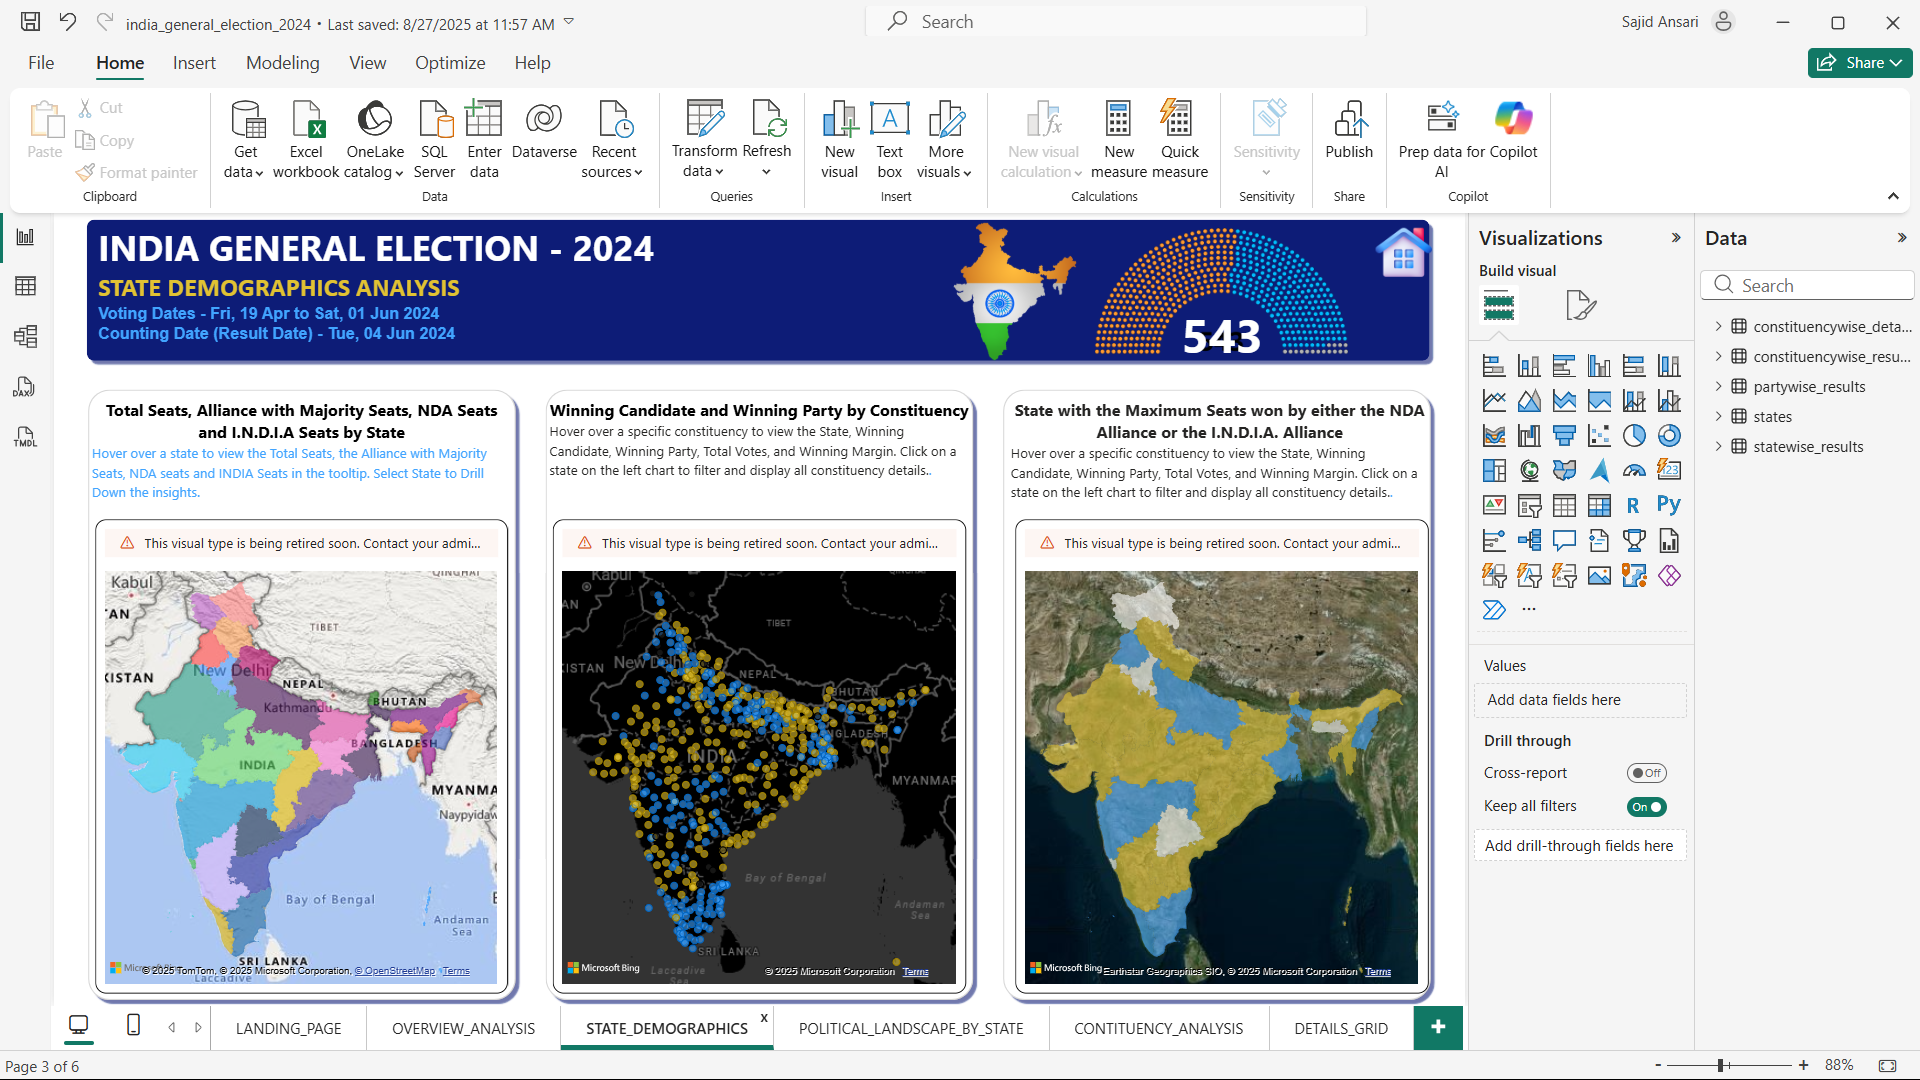

Layout of this report page (visuals, bound fields, positions):
{"tool":"powerbi","page":{"name":"STATE_DEMOGRAPHICS","canvas":[1280,720],"ordinal":2},"visuals":[{"type":"shape","box":[24.1,0,1230.3,140.1],"z":0},{"type":"shape","box":[24.7,154.1,400,565.9],"z":1000},{"type":"textbox","box":[35.2,4.5,583,136.1],"z":2000},{"type":"image","box":[784.3,2.9,172.9,135.7],"z":3000},{"type":"image","box":[935.7,2.9,247.1,135.7],"z":4000},{"type":"card","fields":{"Values":["partywise_results.Total Seats"]},"box":[1011.4,84.3,97.1,51.4],"z":5000},{"type":"shape","box":[440,154.1,400,565.9],"z":6000},{"type":"shape","box":[855.3,154.1,400,565.9],"z":7000},{"type":"filledMap","fields":{"Category":["states.State"],"Series":["states.State"]},"box":[37.6,277.6,374.1,430.6],"z":8000},{"type":"textbox","box":[29.4,163.5,390.6,114.1],"z":9000},{"type":"map","fields":{"Category":["states.State","statewise_results.Constituency"],"Series":["constituencywise_results.Alliance"]},"box":[452.9,277.6,375.3,430.6],"z":10000},{"type":"filledMap","fields":{"Category":["states.State"],"Series":["states.Winning Alliance"]},"box":[871.8,277.6,375.3,430.6],"z":11000},{"type":"textbox","box":[444.7,163.5,390.6,114.1],"z":12000},{"type":"textbox","box":[863.5,163.5,389.4,114.1],"z":13000},{"type":"image","box":[1194.1,4.7,61.2,62.4],"z":14000}]}

Visuals, with their boxes on the page's 1280x720 design canvas (x1, y1, x2, y2). These are canvas units, not pixel positions in the 1920x1080 screenshot, which may show the page scaled, cropped or inside an application window:
shape: box=[24, 0, 1254, 140]
shape: box=[25, 154, 425, 720]
textbox: box=[35, 4, 618, 141]
image: box=[784, 3, 957, 139]
image: box=[936, 3, 1183, 139]
card - partywise_results.Total Seats: box=[1011, 84, 1108, 136]
shape: box=[440, 154, 840, 720]
shape: box=[855, 154, 1255, 720]
filledMap - states.State x states.State: box=[38, 278, 412, 708]
textbox: box=[29, 164, 420, 278]
map - states.State x statewise_results.Constituency: box=[453, 278, 828, 708]
filledMap - states.State x states.Winning Alliance: box=[872, 278, 1247, 708]
textbox: box=[445, 164, 835, 278]
textbox: box=[864, 164, 1253, 278]
image: box=[1194, 5, 1255, 67]
